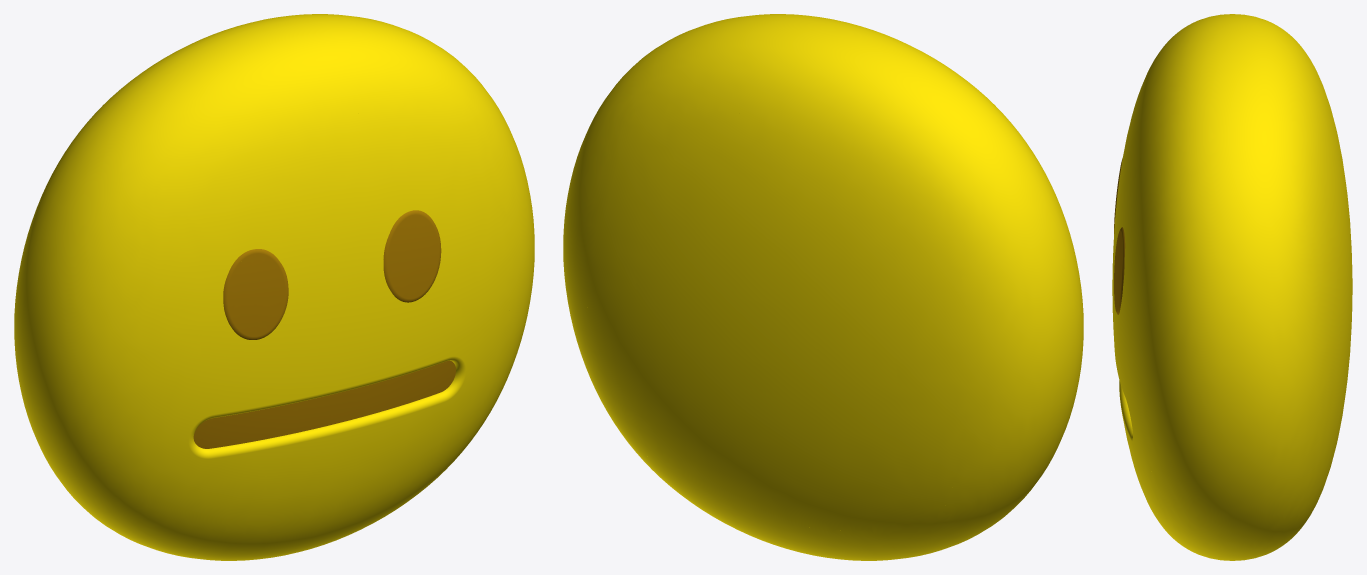
3 renders of one model, left to right at view 1: azimuth 30°, elevation 25°; view 2: azimuth 150°, elevation 25°; view 3: azimuth 270°, elevation 25°, orthographic. The views are drawn at different scales.
Parts seen in each view (by area): view 1: 004_SmileEmoji4; view 2: 004_SmileEmoji4; view 3: 004_SmileEmoji4.
Boxes of the visible parts, x1,y1,x2,y2 form: 004_SmileEmoji4: (14,14,534,560); 004_SmileEmoji4: (563,14,1083,560); 004_SmileEmoji4: (1112,14,1352,560).
Bounding box in the file's own units: 0.1561 × 0.1561 × 0.0696.
